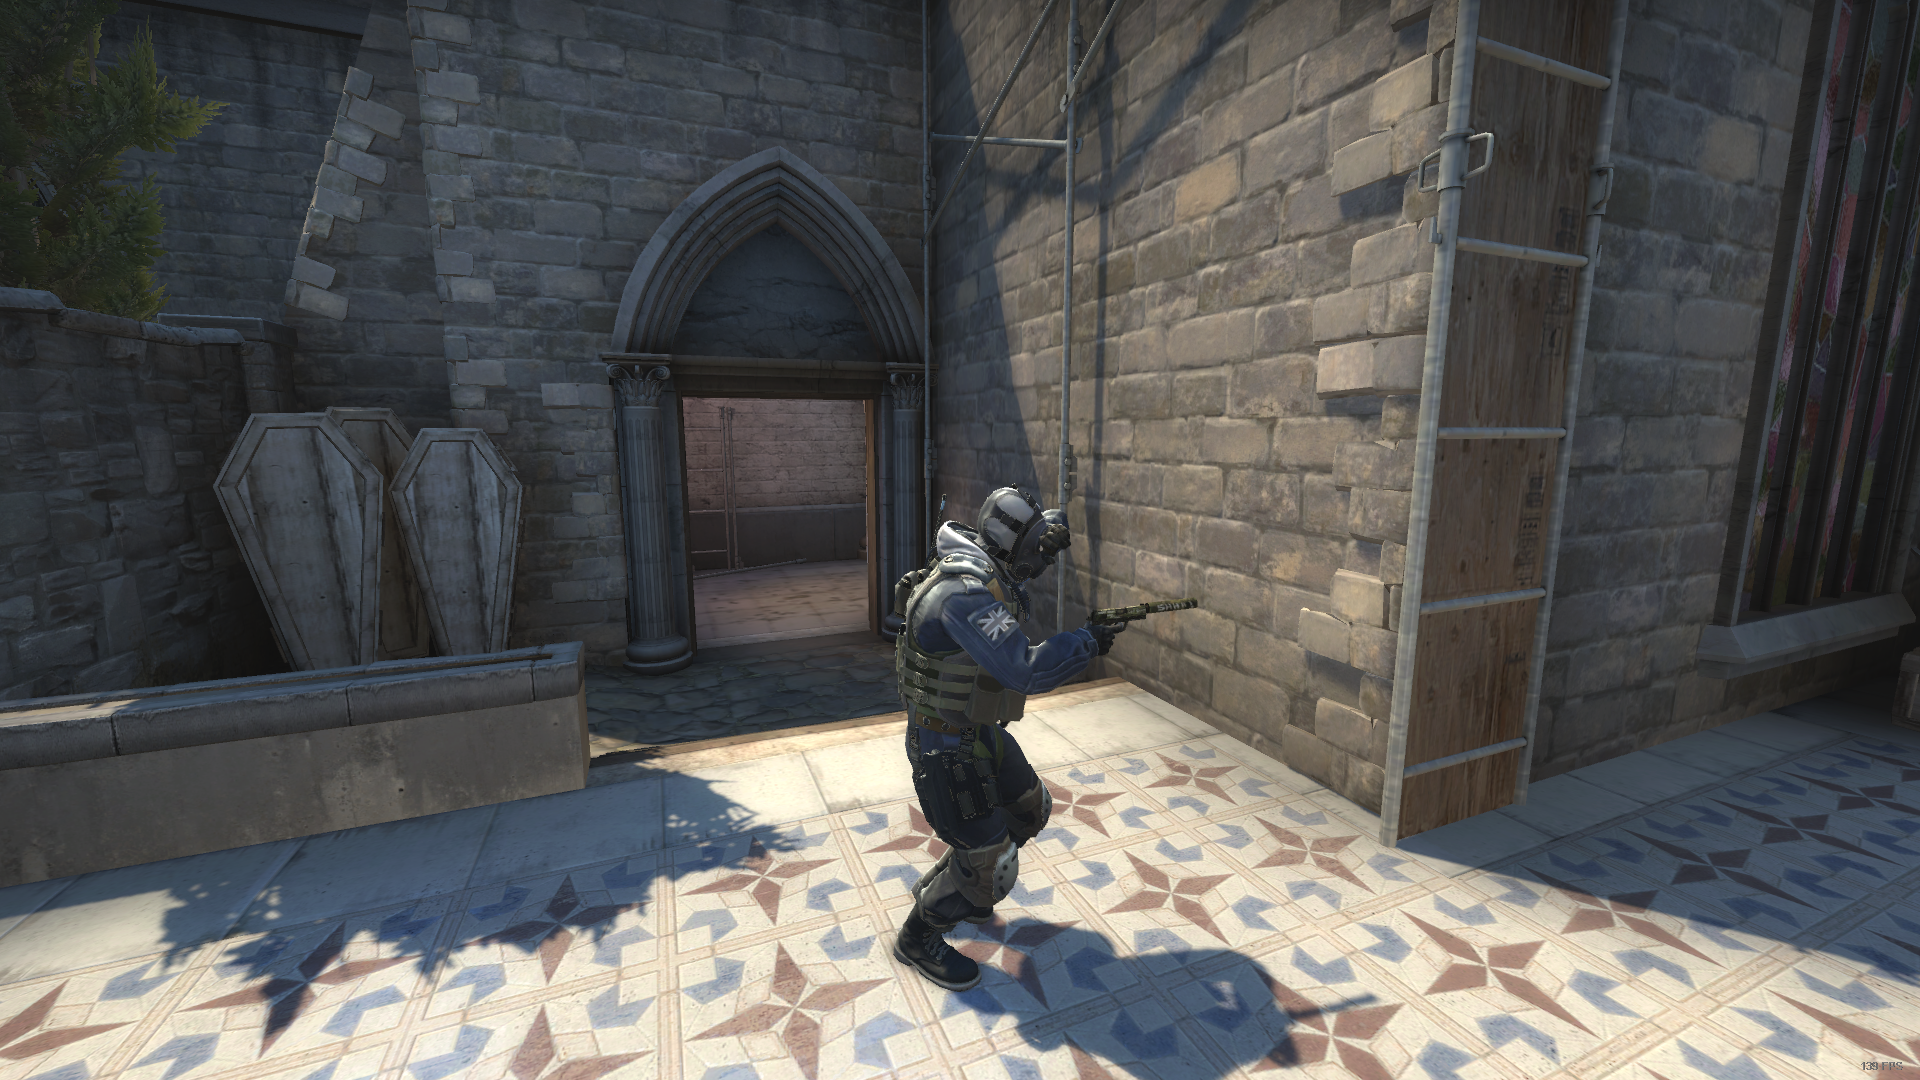ct: (887, 479, 1112, 1005)
